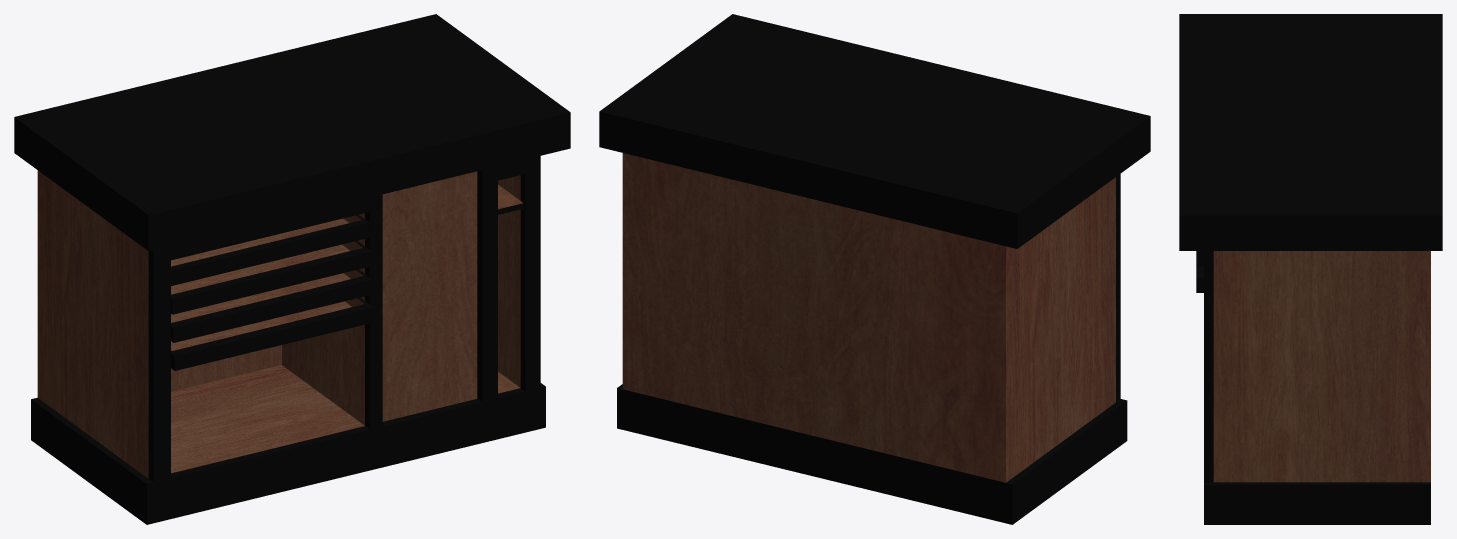
The model's file is Work Bench.fbx.
3 renders of one model, left to right at view 1: azimuth 30°, elevation 25°; view 2: azimuth 150°, elevation 25°; view 3: azimuth 270°, elevation 25°, orthographic. The views are drawn at different scales.
Parts seen in each view (by area): view 1: Cube; view 2: Cube; view 3: Cube.
Boxes of the visible parts, bbox=[...] form: Cube: bbox=[14, 14, 570, 524]; Cube: bbox=[599, 14, 1150, 524]; Cube: bbox=[1179, 14, 1442, 524].
Bounding box in the file's own units: 531 × 293 × 386.
2 materials, 1 textured.
